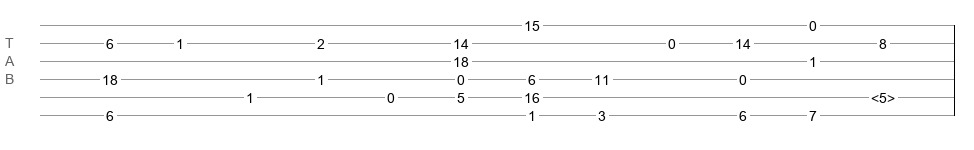0: (387, 90, 395, 100), (457, 72, 465, 82), (668, 36, 676, 46), (739, 72, 747, 82), (809, 18, 817, 28)
1: (176, 36, 184, 46), (246, 90, 254, 100), (317, 72, 325, 82), (528, 108, 536, 118), (809, 54, 817, 64)
11: (594, 72, 610, 82)
14: (453, 36, 469, 46), (735, 36, 751, 46)
15: (524, 18, 540, 28)
16: (524, 90, 540, 100)
18: (102, 72, 118, 82), (453, 54, 469, 64)
2: (317, 36, 325, 46)
3: (598, 108, 606, 118)
5: (457, 90, 465, 100)
6: (106, 108, 114, 118), (106, 36, 114, 46), (528, 72, 536, 82), (739, 108, 747, 118)
7: (809, 108, 817, 118)
8: (879, 36, 887, 46)
harmonic: (871, 90, 895, 100)
